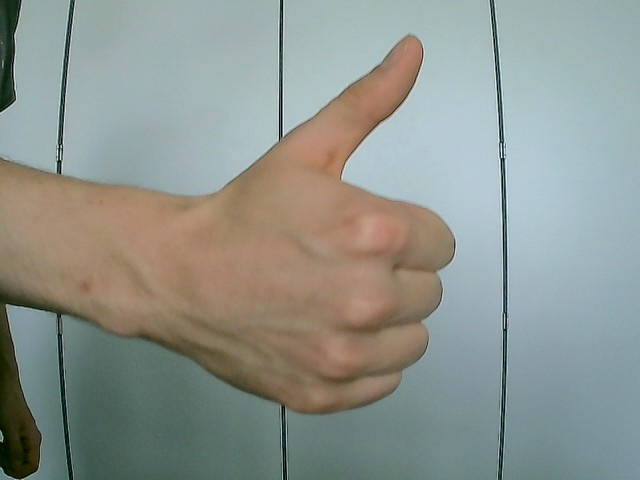up: (153, 33, 458, 416)
